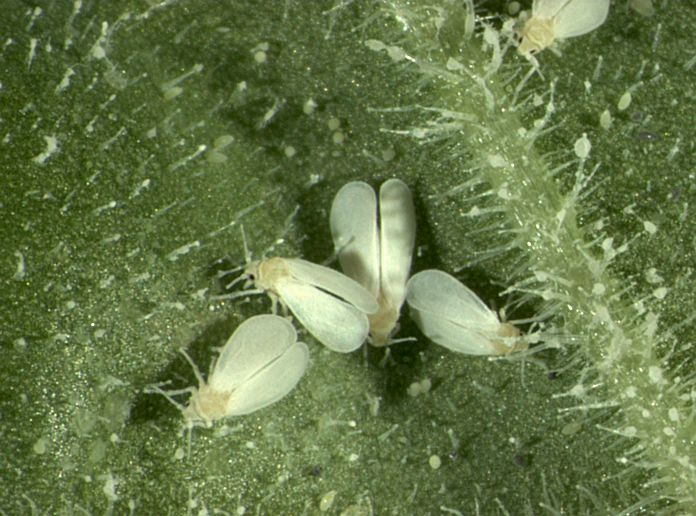whitefly: (155, 312, 309, 462), (218, 223, 381, 351), (329, 180, 415, 348), (402, 272, 532, 375)
